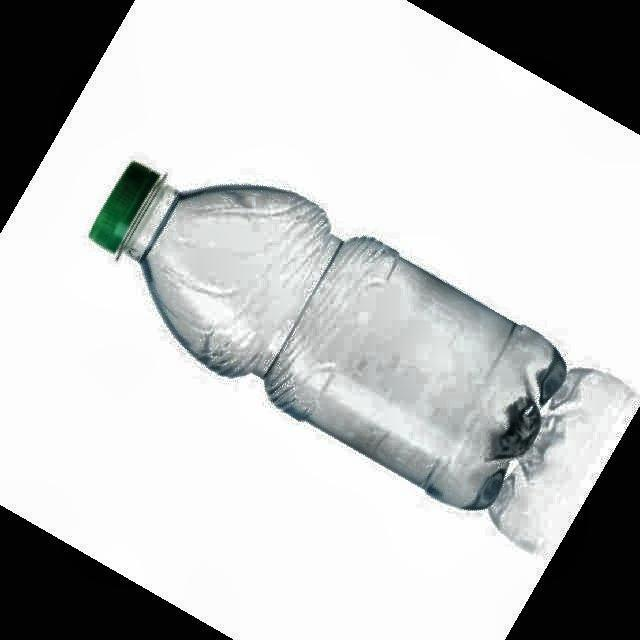plastic: (90, 162, 565, 509)
